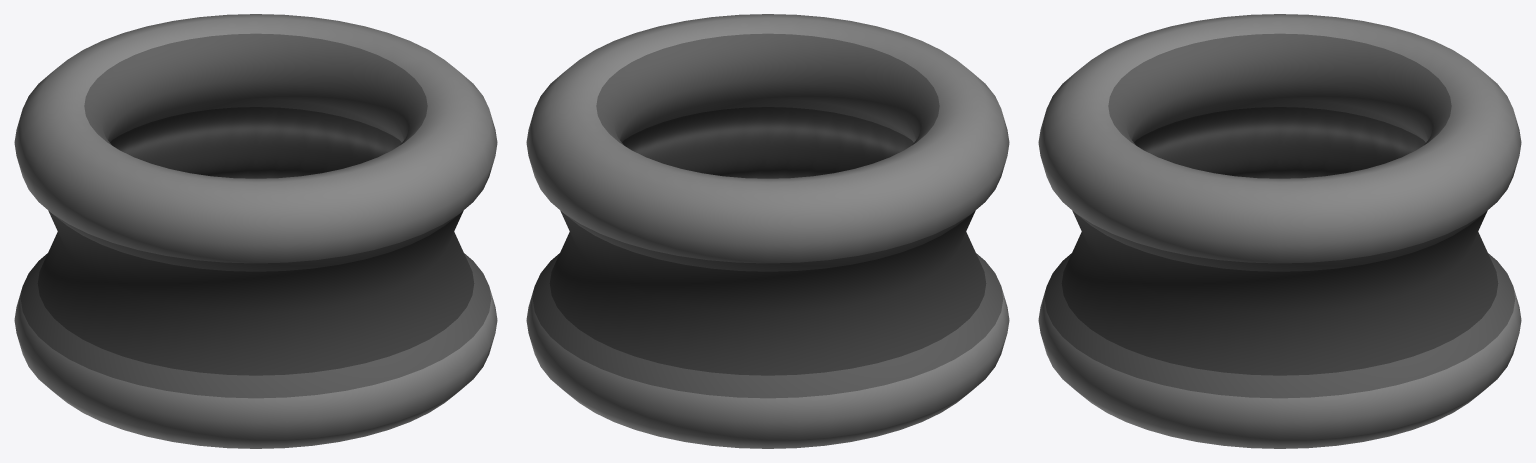
Rendered from Drone2.glb.
3 renders of one model, left to right at view 1: azimuth 30°, elevation 25°; view 2: azimuth 150°, elevation 25°; view 3: azimuth 270°, elevation 25°, orthographic.
Visible parts, largest first — view 1: Torus; view 2: Torus; view 3: Torus.
Part boxes in pixels (left/top/right/bottom): Torus: left=14, top=14, right=497, bottom=448; Torus: left=526, top=14, right=1009, bottom=448; Torus: left=1038, top=14, right=1521, bottom=448.
Size of the model in its own units: 2.47 by 1.48 by 2.47.
Materials: 1 (1 with a texture image).
